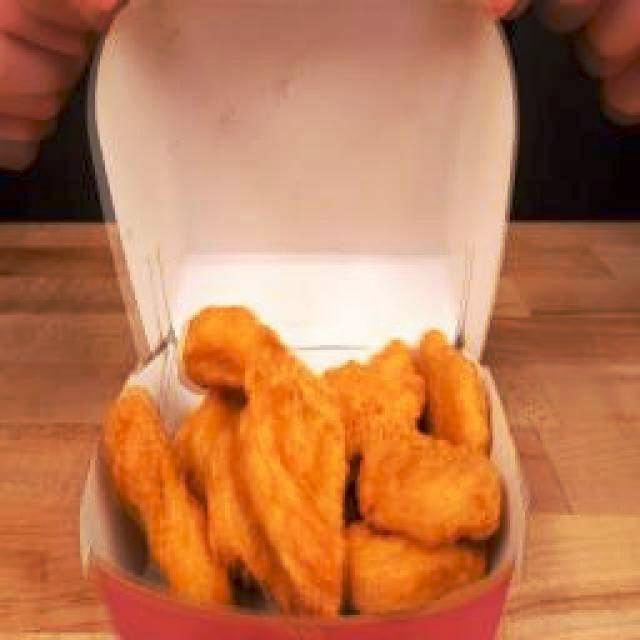chicken_nuggets: (101, 305, 502, 614)
